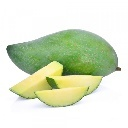mango: (7, 29, 121, 80)
